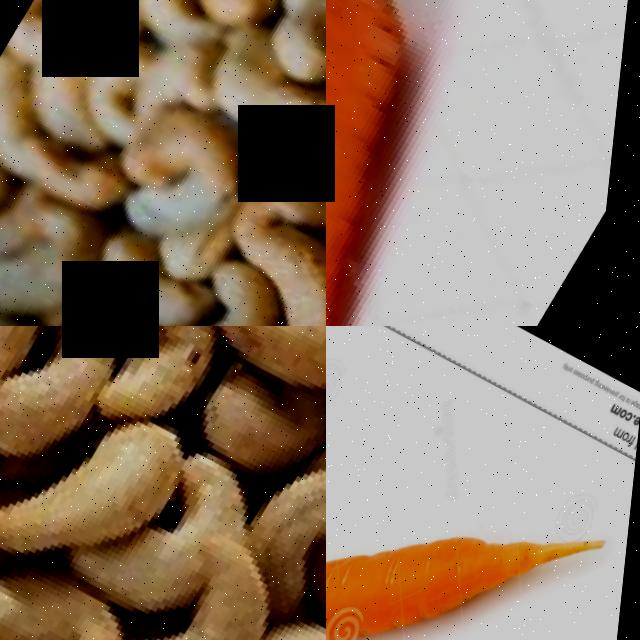carrot: (326, 0, 640, 326), (326, 326, 618, 640)
cashew: (0, 387, 215, 598), (101, 509, 309, 640), (0, 326, 135, 484), (183, 370, 323, 483), (162, 326, 326, 422), (0, 538, 147, 640), (97, 227, 227, 326), (248, 444, 326, 567), (269, 44, 326, 192), (174, 260, 297, 326), (263, 221, 326, 326), (261, 0, 326, 92)
